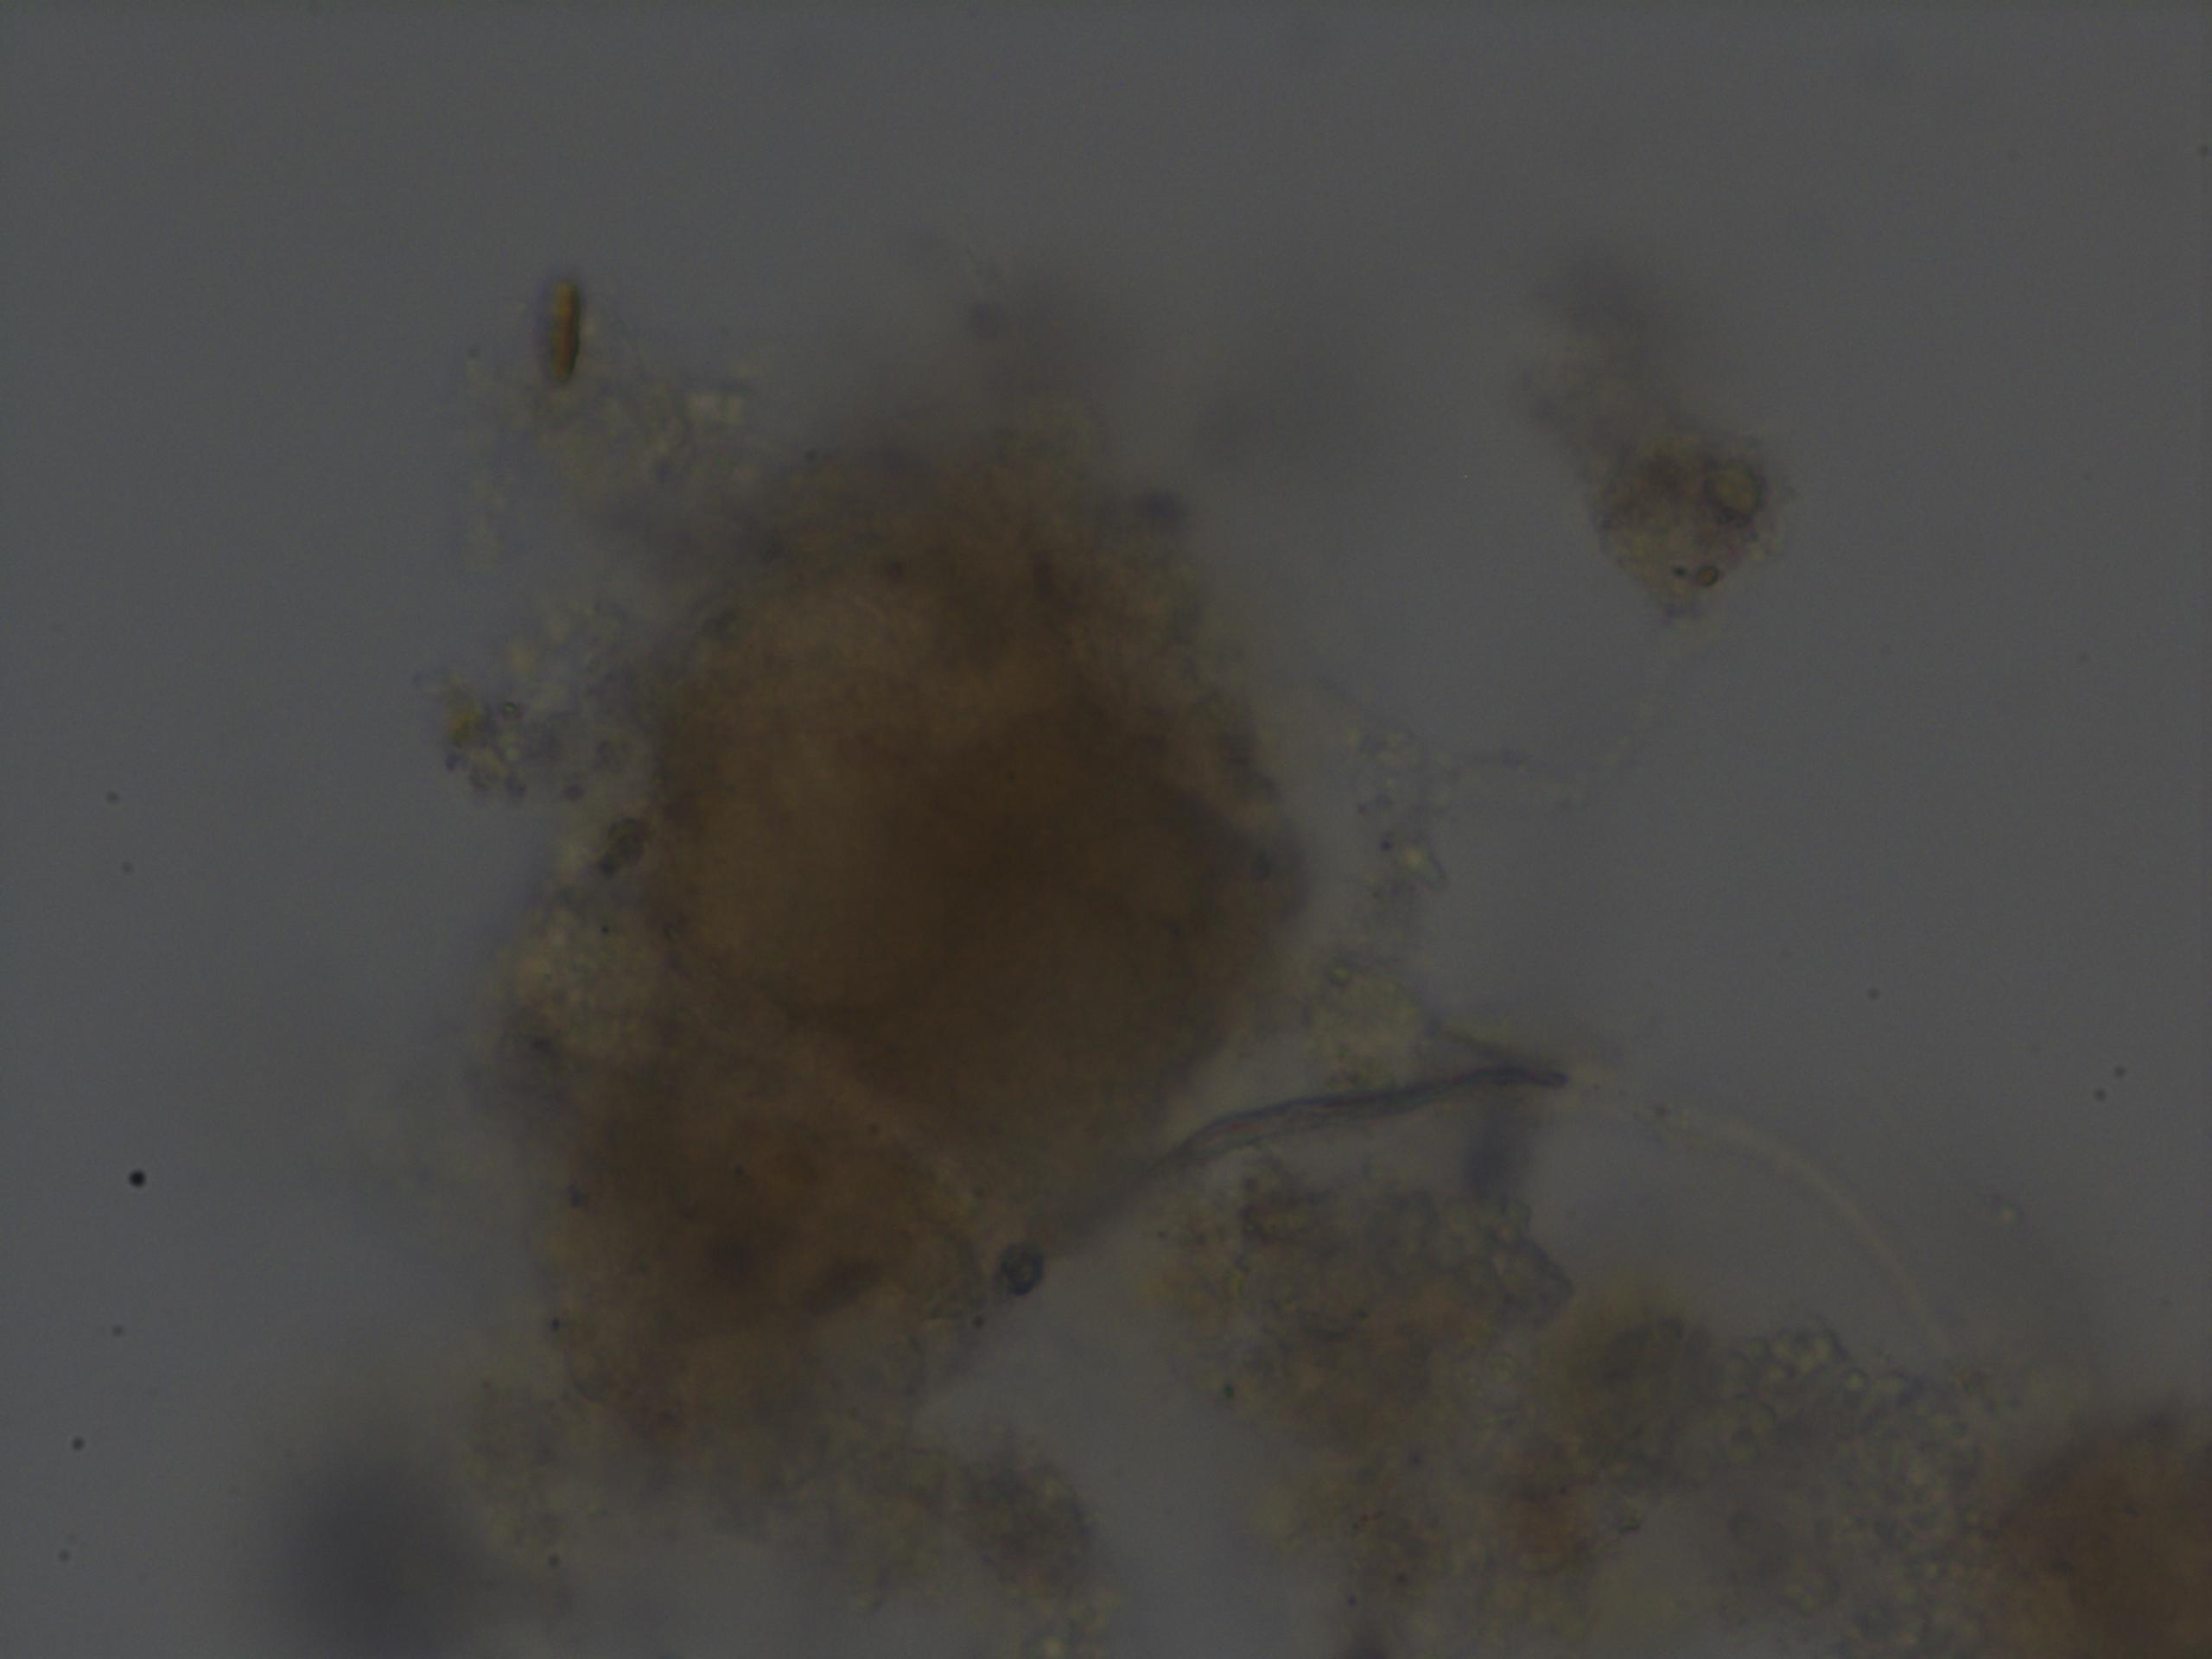filament: (1148, 1039, 2003, 1420)
